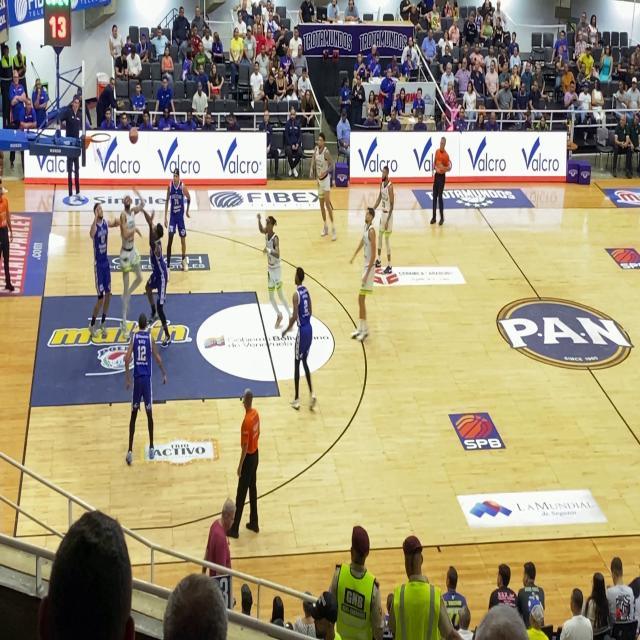Ball: (127, 128, 141, 145)
referee: (226, 376, 268, 496), (427, 126, 451, 233), (2, 164, 14, 302)
team1: (255, 206, 290, 342), (306, 134, 339, 252), (350, 203, 376, 351), (372, 157, 400, 283), (118, 184, 142, 327)
team2: (123, 310, 165, 467), (286, 253, 315, 414), (87, 199, 116, 347), (164, 162, 196, 273), (144, 208, 172, 319)
ubasket: (88, 130, 112, 148)
